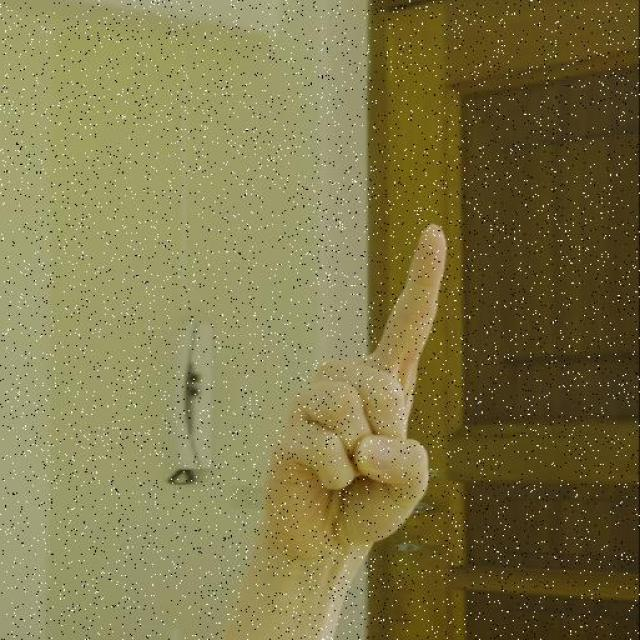Z: (254, 220, 452, 565)
